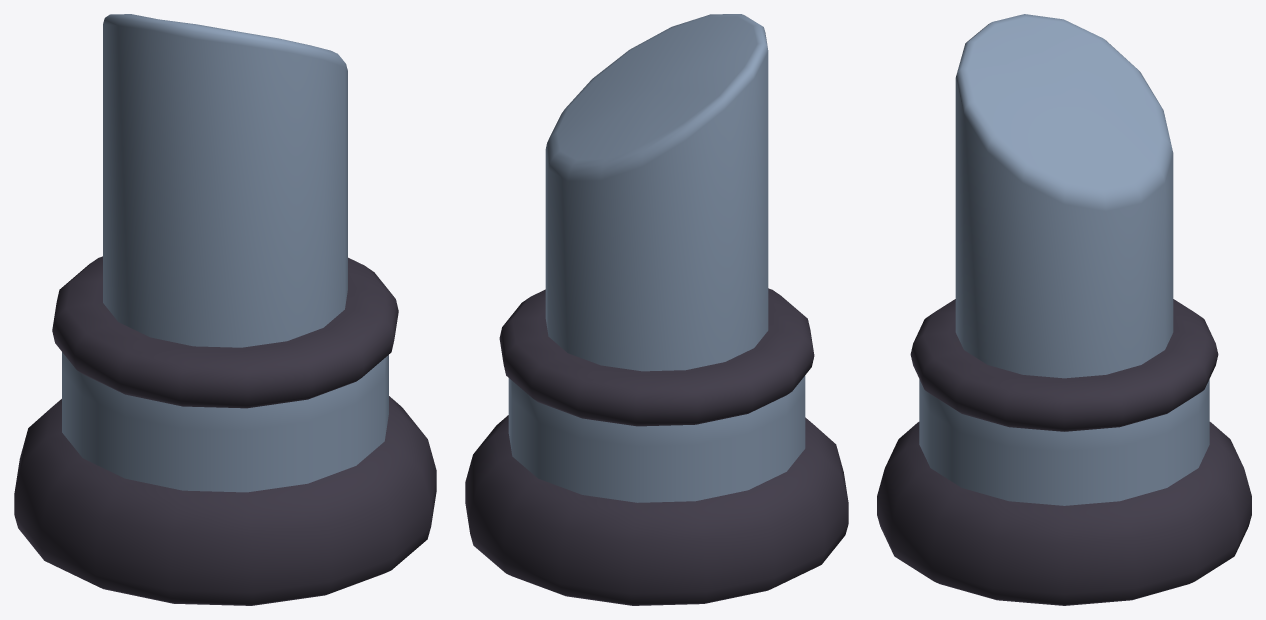
The model's file is ruins-column-4.fbx.
The picture shows the model from 3 angles, left to right: view 1: azimuth 30°, elevation 25°; view 2: azimuth 150°, elevation 25°; view 3: azimuth 270°, elevation 25°; orthographic projection. The views are drawn at different scales.
Parts seen in each view (by area): view 1: Cylinder, Cylinder.002, Cylinder.003, Cylinder.001; view 2: Cylinder, Cylinder.002, Cylinder.003, Cylinder.001; view 3: Cylinder, Cylinder.002, Cylinder.003, Cylinder.001.
Boxes of the visible parts, left/top/right/bottom form: Cylinder: left=103, top=14, right=347, bottom=347; Cylinder.002: left=14, top=396, right=436, bottom=605; Cylinder.003: left=62, top=352, right=388, bottom=492; Cylinder.001: left=52, top=256, right=398, bottom=408; Cylinder: left=545, top=14, right=768, bottom=371; Cylinder.002: left=465, top=415, right=848, bottom=605; Cylinder.003: left=508, top=375, right=805, bottom=502; Cylinder.001: left=499, top=288, right=814, bottom=426; Cylinder: left=955, top=14, right=1173, bottom=378; Cylinder.002: left=877, top=422, right=1251, bottom=605; Cylinder.003: left=919, top=379, right=1209, bottom=505; Cylinder.001: left=910, top=299, right=1218, bottom=431.
Size of the model in its own units: 103 by 146 by 103.
